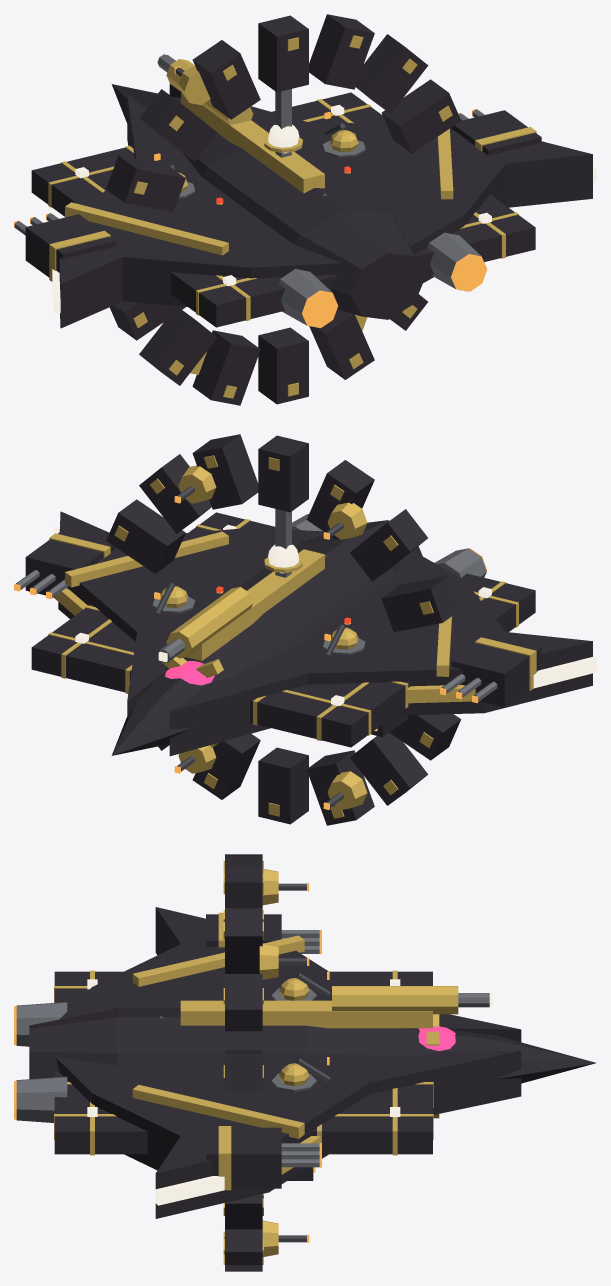
File: loc5.glb
3 views of the same model, one above another, from view 1: azimuth 30°, elevation 25°; view 2: azimuth 150°, elevation 25°; view 3: azimuth 270°, elevation 25° (orthographic). The views are drawn at different scales.
Parts seen in each view (by area): view 1: dreadnought, gatekeeper, plate, part_wingL.001, part_wingR.001, part_gun1, part_spine, part_t2, part_lens; view 2: dreadnought, gatekeeper, plate, part_wingL.001, part_wingR.001, part_spine, part_t4, part_t2, part_core.006, part_t1, part_gun0, part_gun1 (+2 smaller); view 3: dreadnought, plate, gatekeeper, part_wingR.001, part_spine, part_wingL.001, part_gun1, part_gun0, part_t1, part_core.006, part_t5, part_t2.
Boxes of the visible parts, <box> form: dreadnought: <box>52,84,596,328</box>; gatekeeper: <box>106,14,461,405</box>; plate: <box>31,92,535,327</box>; part_wingL.001: <box>14,213,115,281</box>; part_wingR.001: <box>451,109,541,155</box>; part_gun1: <box>323,111,365,157</box>; part_spine: <box>157,54,253,125</box>; part_t2: <box>174,66,210,105</box>; part_lens: <box>264,124,302,153</box>; dreadnought: <box>53,511,596,756</box>; gatekeeper: <box>106,434,461,825</box>; plate: <box>31,512,535,747</box>; part_wingL.001: <box>440,634,541,707</box>; part_wingR.001: <box>14,530,115,599</box>; part_spine: <box>157,587,253,662</box>; part_t4: <box>323,771,367,809</box>; part_t2: <box>323,502,367,539</box>; part_core.006: <box>160,656,223,747</box>; part_t1: <box>174,465,216,503</box>; part_gun0: <box>323,624,365,657</box>; part_gun1: <box>152,582,194,615</box>; dreadnought: <box>14,907,595,1218</box>; plate: <box>54,970,433,1155</box>; gatekeeper: <box>223,854,263,1271</box>; part_wingR.001: <box>206,1126,321,1190</box>; part_spine: <box>332,986,492,1014</box>; part_wingL.001: <box>206,912,321,954</box>; part_gun1: <box>271,1057,330,1091</box>; part_gun0: <box>271,971,330,1000</box>; part_t1: <box>259,943,309,979</box>; part_core.006: <box>418,1014,455,1118</box>; part_t5: <box>262,1220,309,1256</box>; part_t2: <box>262,869,309,905</box>.
Size of the model in its own units: 102 by 66 by 92.45.
